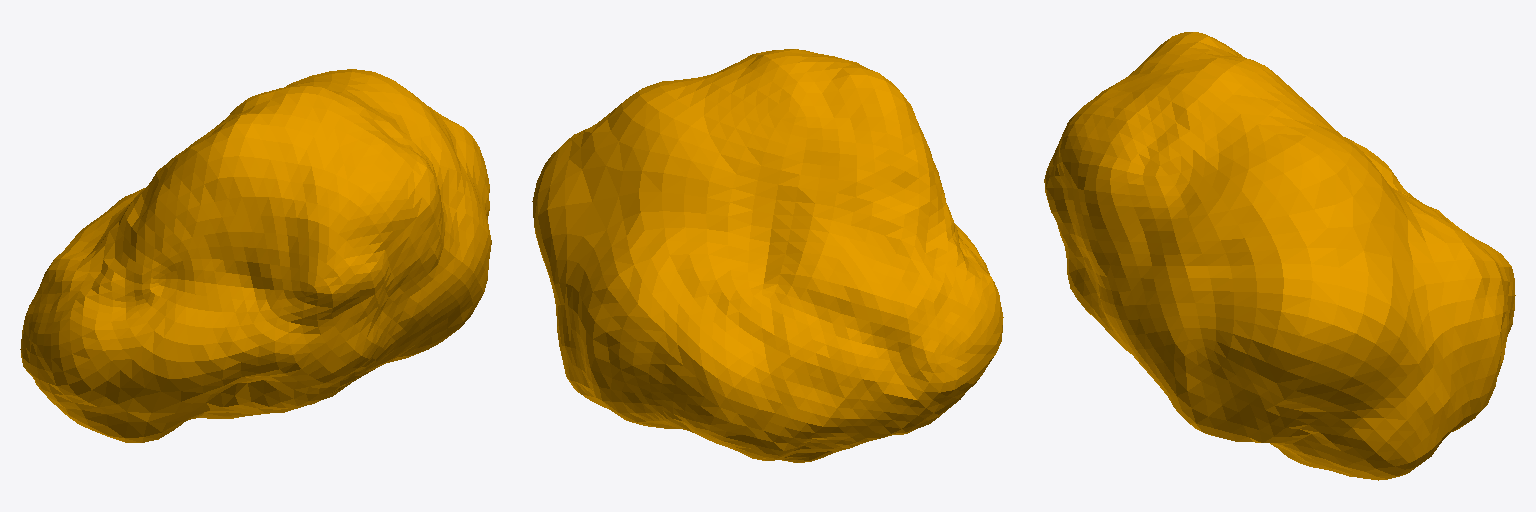
URDF robot description (rock):
<?xml version="1.0" ?>
<robot name="rock">
  <link name="rock">
    <inertial>
      <mass value="0.25"/>
      <origin rpy="0 0 0" xyz="0 0 0"/>
      <inertia ixx="0.00025" ixy="0" ixz="0" iyy="0.00025" iyz="0" izz="0.00025"/>
    </inertial>
    <collision name="rock_collision">
      <origin rpy="0 0 0" xyz="0 0 0"/>
      <geometry>
        <mesh filename="package://rocks/collision/10.stl" scale="1 1 1"/>
      </geometry>
    </collision>
    <visual name="rock_visual">
      <origin rpy="0 0 0" xyz="0 0 0"/>
      <geometry>
        <mesh filename="package://rocks/visual/10.dae" scale="1 1 1"/>
      </geometry>
    </visual>
  </link>
</robot>

--- Facts derived from the render (not from the file) ---
3 views of the same robot in one strip: view 1: azimuth 30°, elevation 25°; view 2: azimuth 150°, elevation 25°; view 3: azimuth 270°, elevation 25° (orthographic).
Robot: rock — 1 links, 0 joints (none); root link rock; default pose: every joint at zero.
Links seen in each view (by area): view 1: rock; view 2: rock; view 3: rock.
Link boxes in pixels (<box>): rock: <box>20,69,491,442</box>; rock: <box>532,49,1003,462</box>; rock: <box>1044,32,1515,480</box>.
Bounding box of the posed robot: 0.0887 × 0.0745 × 0.0658 m (x, y, z).
Meshes: 1 distinct files referenced, 1 mesh visuals loaded (1 Collada DAE).